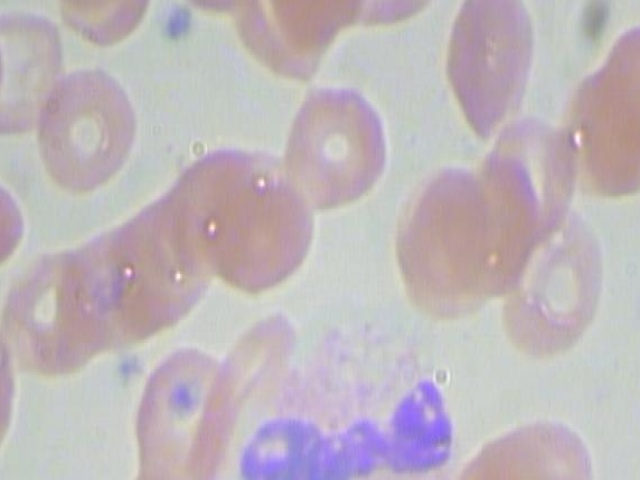Platelets: (103, 343, 146, 395), (154, 0, 197, 50)
RBC: (494, 182, 613, 368), (269, 69, 398, 225), (26, 52, 155, 208), (389, 164, 502, 321), (427, 0, 545, 150), (204, 154, 317, 310), (157, 141, 257, 295), (119, 179, 219, 332), (79, 208, 178, 361), (0, 236, 96, 390), (133, 333, 230, 480), (564, 10, 640, 197), (0, 0, 77, 152), (485, 389, 604, 480), (434, 411, 552, 480), (34, 0, 161, 45), (326, 0, 463, 31), (145, 0, 290, 6)
WBC: (221, 319, 459, 480)
